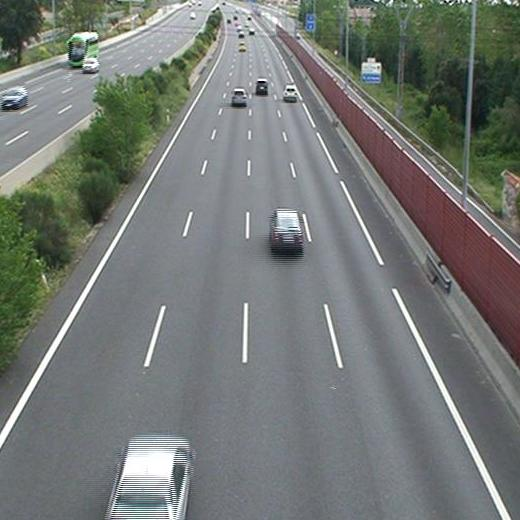car: (105, 437, 192, 520), (270, 210, 303, 248), (232, 89, 247, 104), (284, 86, 297, 100), (256, 79, 268, 94)
